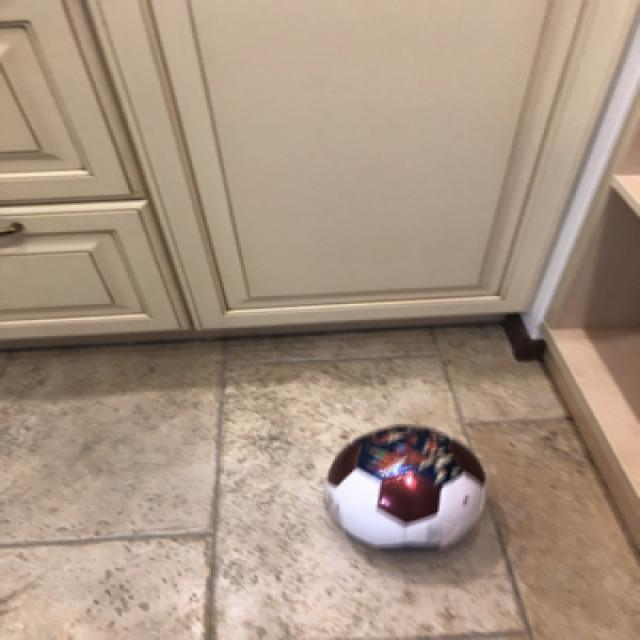soccer_ball: (320, 419, 486, 555)
